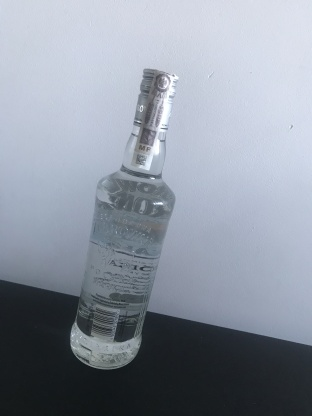nakretka: (131, 65, 180, 136)
